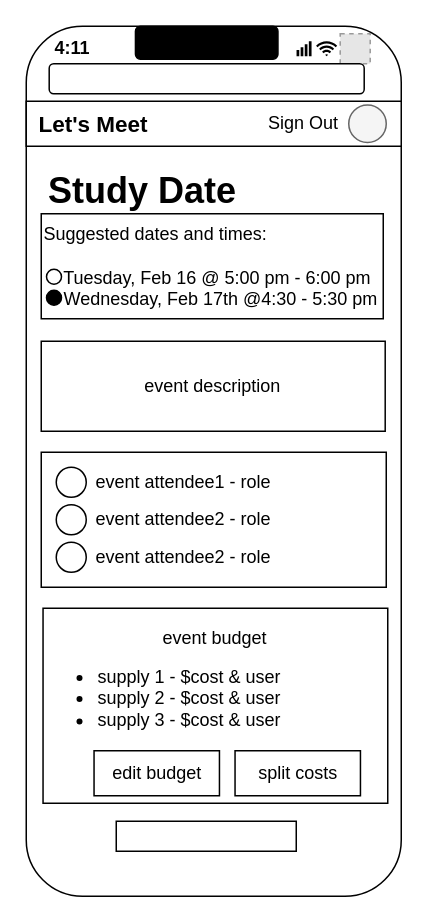
Image size: 428x923. Some labels were removed from this diagram. Grey dashed boxes stand in for pictures. The box of each missing label's shape, as (x1, y1, x2, y2) in pixels:
Delete Event: (115, 820, 296, 851)
letsmeet.com/user/manageevent: (48, 62, 364, 94)
